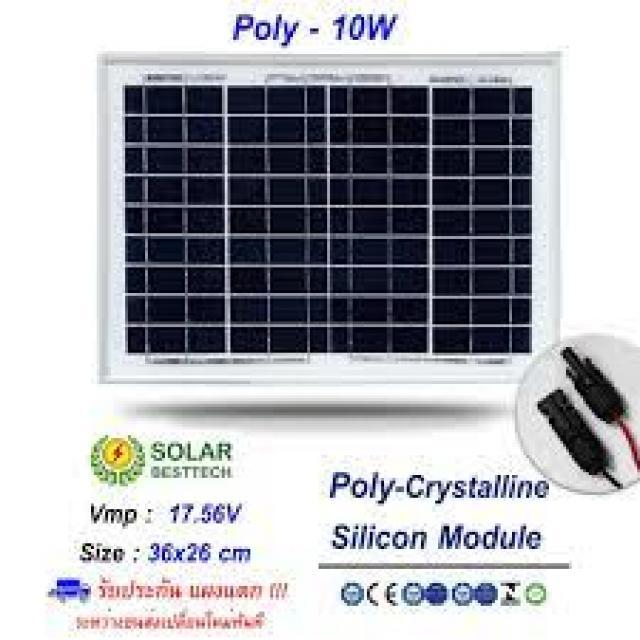no faulty: (102, 62, 554, 384)
